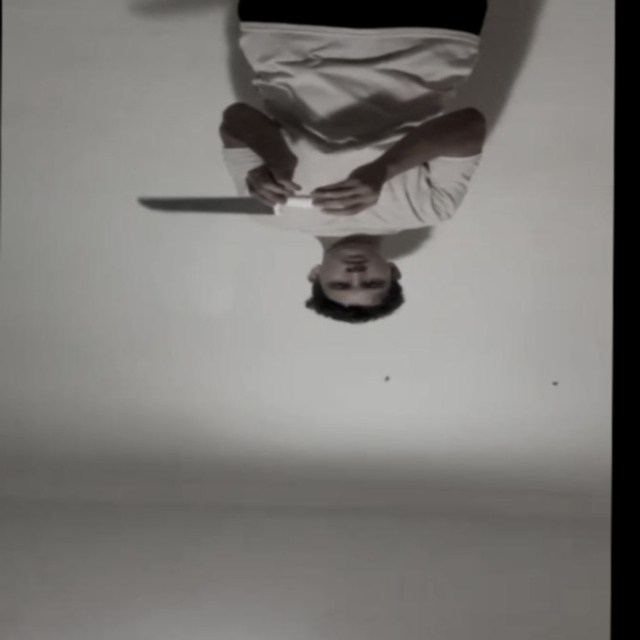Sharp-Object: (135, 194, 277, 216)
